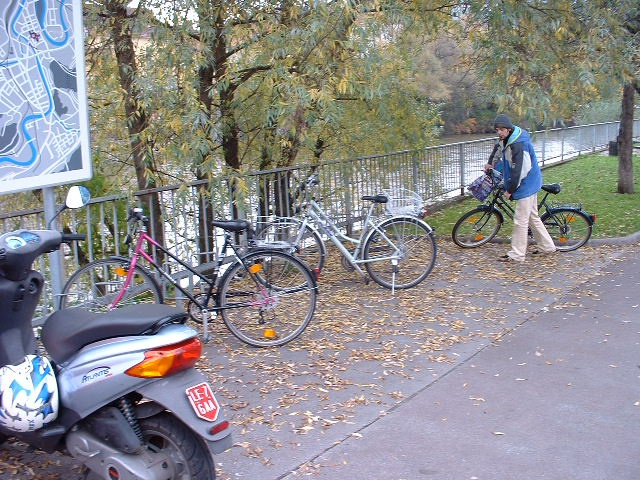person: (482, 110, 557, 265)
